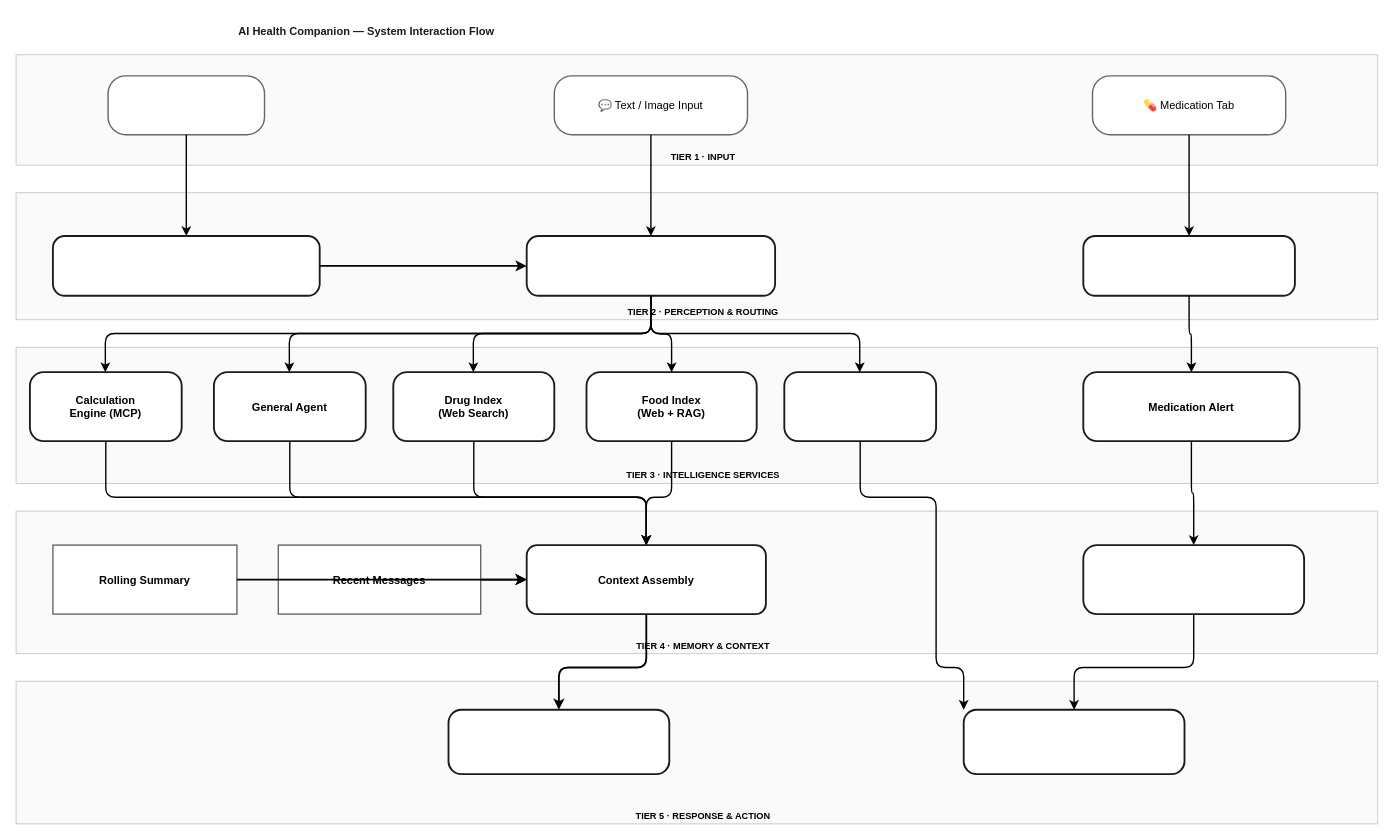
Image size: 1394x840. Some labels were removed from this diagram. Each missing label, with the centre of its shape:
"Dashboard" belongs at (1073,741).
"Health Tracker" belongs at (860,406).
"Patient Response" belongs at (558,741).
"Prescription Entry" belongs at (1188,265).
"Speech & Emotion Recognition" belongs at (186,265).
"User Confirmation" belongs at (1193,579).
"⚙ Intent Router" belongs at (650,265).
"🎙 Voice Input" belongs at (186,105).
